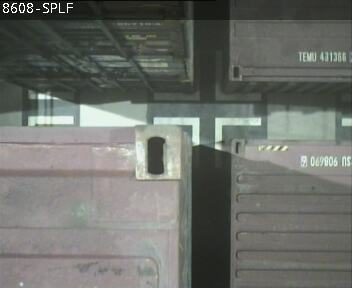groundmarker_1: (153, 117, 261, 167), (153, 51, 260, 101)
